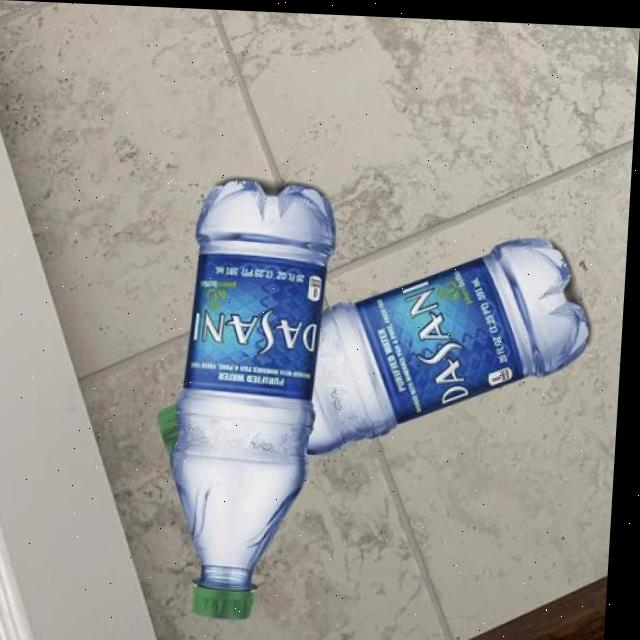bottle: (153, 176, 600, 625), (164, 172, 342, 618)
